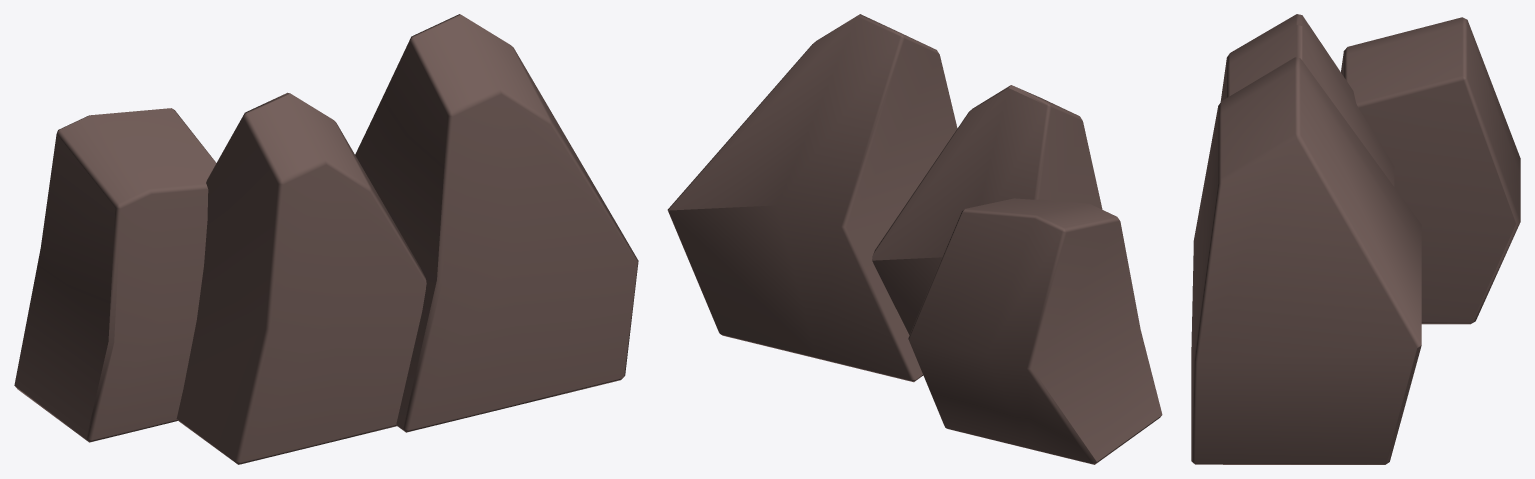
Rendered from Rocks2.fbx.
3 views of the same model, side by side, from view 1: azimuth 30°, elevation 25°; view 2: azimuth 150°, elevation 25°; view 3: azimuth 270°, elevation 25° (orthographic). The views are drawn at different scales.
Visible parts, largest first — view 1: pCube27; view 2: pCube27; view 3: pCube27.
Part boxes in pixels (<box>): pCube27: <box>14,14,638,464</box>; pCube27: <box>667,14,1162,464</box>; pCube27: <box>1191,14,1520,464</box>.
Bounding box in the file's own units: 5.09 × 3.37 × 2.92.
